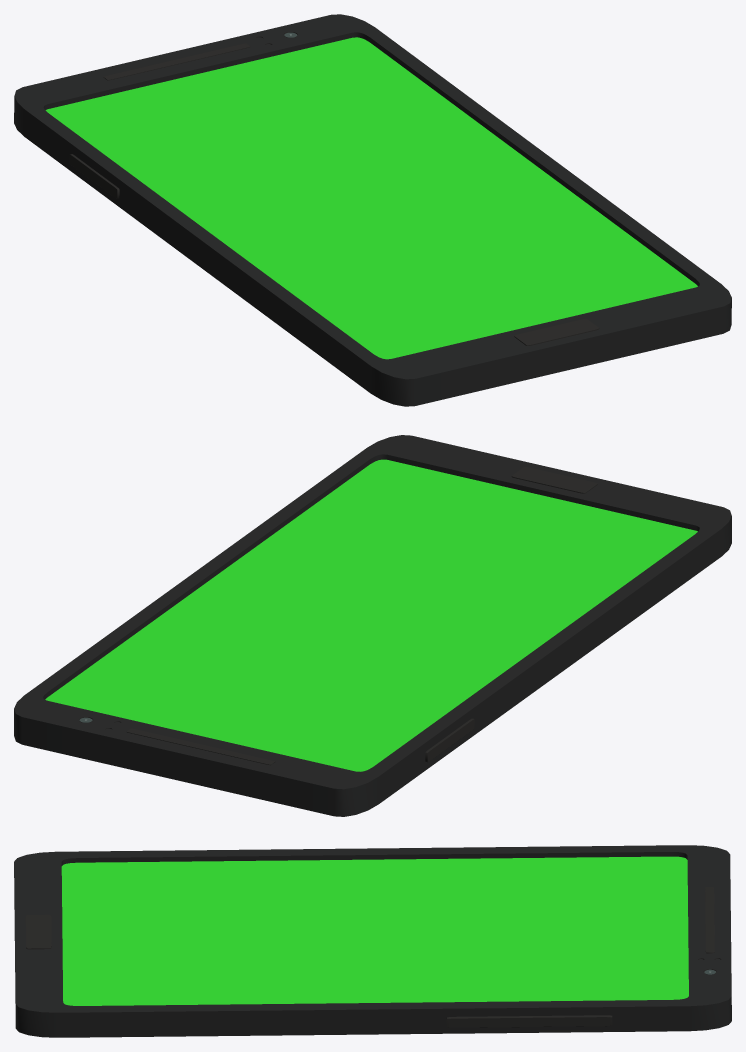
Rendered from smartphone.glb.
3 views of the same model, one above another, from view 1: azimuth 30°, elevation 25°; view 2: azimuth 150°, elevation 25°; view 3: azimuth 270°, elevation 25° (orthographic). The views are drawn at different scales.
Parts seen in each view (by area): view 1: Cube_6, Cube.004_13, Cube.003_12, Cube.001_10; view 2: Cube_6, Cube.004_13, Cube.003_12, Cube.001_10; view 3: Cube_6, Cube.002_11, Cube.004_13, Cube.003_12.
Boxes of the visible parts, x1,y1,x2,y2 form: Cube_6: (14,14,731,406); Cube.004_13: (514,318,599,345); Cube.003_12: (103,43,250,80); Cube.001_10: (69,154,119,198); Cube_6: (14,435,731,816); Cube.004_13: (511,467,597,493); Cube.003_12: (126,728,274,765); Cube.001_10: (425,718,474,762); Cube_6: (14,845,731,1037); Cube.002_11: (446,1015,612,1027); Cube.004_13: (25,914,51,949); Cube.003_12: (705,887,714,953).
Bounding box in the file's own units: 0.7172 × 0.0774 × 1.36.
